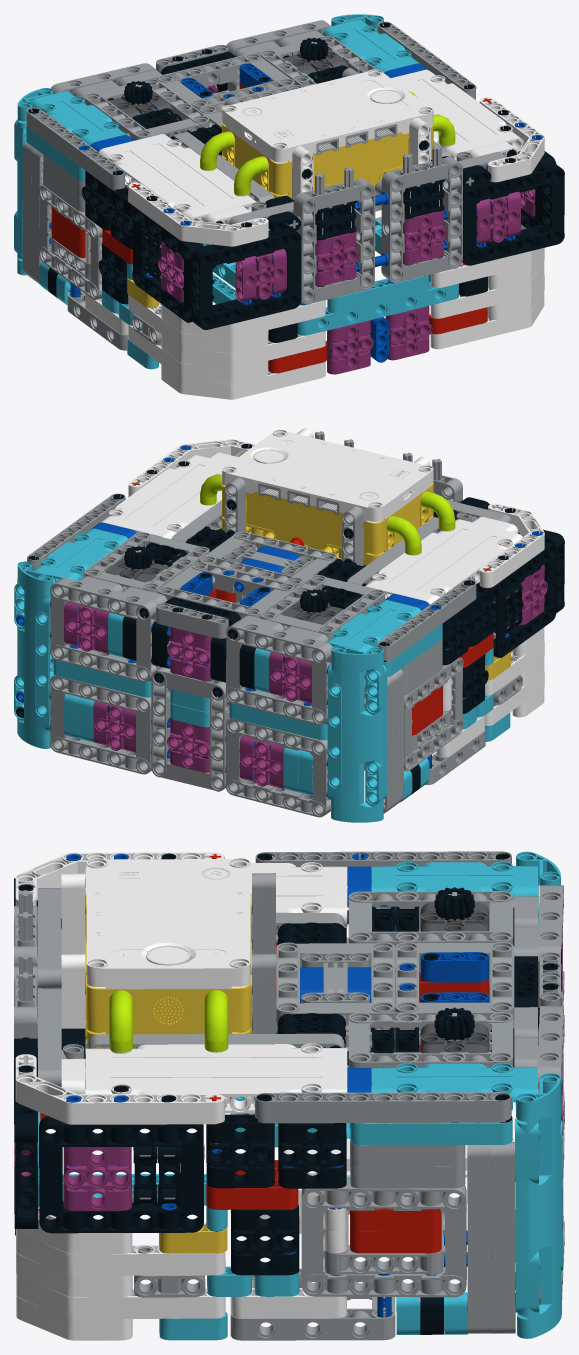
The model's file is mini.glb.
3 views of the same model, one above another, from view 1: azimuth 30°, elevation 25°; view 2: azimuth 150°, elevation 25°; view 3: azimuth 270°, elevation 25° (orthographic). The views are drawn at different scales.
Visible parts, largest first — view 1: Inner-Node-National2_dot_io-98.001, Inner-Node-National2_dot_io-698.001, Inner-Node-National2_dot_io-294.001, Inner-Node-National2_dot_io-313.001, Inner-Node-National2_dot_io-303.001, Inner-Node-National2_dot_io-318.001, Inner-Node-National2_dot_io-586.001, Inner-Node-National2_dot_io-359.001, Inner-Node-National2_dot_io-30.001, Inner-Node-National2_dot_io-333.001, Inner-Node-National2_dot_io-530.001, Inner-Node-National2_dot_io-341.001 (+70 smaller); view 2: Inner-Node-National2_dot_io-98.001, Inner-Node-National2_dot_io-493.001, Inner-Node-National2_dot_io-698.001, Inner-Node-National2_dot_io-430.001, Inner-Node-National2_dot_io-452.001, Inner-Node-National2_dot_io-536.001, Inner-Node-National2_dot_io-586.001, Inner-Node-National2_dot_io-109.001, Inner-Node-National2_dot_io-136.001, Inner-Node-National2_dot_io-111.001, Inner-Node-National2_dot_io-530.001, Inner-Node-National2_dot_io-341.001 (+64 smaller); view 3: Inner-Node-National2_dot_io-98.001, Inner-Node-National2_dot_io-586.001, Inner-Node-National2_dot_io-430.001, Inner-Node-National2_dot_io-293.001, Inner-Node-National2_dot_io-238.001, Inner-Node-National2_dot_io-449.001, Inner-Node-National2_dot_io-400.001, Inner-Node-National2_dot_io-515.001, Inner-Node-National2_dot_io-514.001, Inner-Node-National2_dot_io-726.001, Inner-Node-National2_dot_io-65.001, Inner-Node-National2_dot_io-648.001 (+74 smaller).
Part boxes in pixels (x1=…): Inner-Node-National2_dot_io-98.001: x1=222, y1=69, x2=433, y2=198; Inner-Node-National2_dot_io-698.001: x1=99, y1=134, x2=256, y2=221; Inner-Node-National2_dot_io-294.001: x1=381, y1=156, x2=462, y2=283; Inner-Node-National2_dot_io-313.001: x1=191, y1=230, x2=301, y2=329; Inner-Node-National2_dot_io-303.001: x1=293, y1=178, x2=375, y2=304; Inner-Node-National2_dot_io-318.001: x1=462, y1=162, x2=564, y2=265; Inner-Node-National2_dot_io-586.001: x1=391, y1=69, x2=524, y2=160; Inner-Node-National2_dot_io-359.001: x1=128, y1=183, x2=268, y2=246; Inner-Node-National2_dot_io-30.001: x1=202, y1=218, x2=458, y2=335; Inner-Node-National2_dot_io-333.001: x1=39, y1=185, x2=102, y2=299; Inner-Node-National2_dot_io-530.001: x1=157, y1=53, x2=294, y2=110; Inner-Node-National2_dot_io-341.001: x1=132, y1=208, x2=203, y2=322; Inner-Node-National2_dot_io-98.001: x1=222, y1=429, x2=433, y2=565; Inner-Node-National2_dot_io-493.001: x1=327, y1=646, x2=387, y2=822; Inner-Node-National2_dot_io-698.001: x1=364, y1=519, x2=522, y2=604; Inner-Node-National2_dot_io-430.001: x1=14, y1=561, x2=54, y2=748; Inner-Node-National2_dot_io-452.001: x1=50, y1=578, x2=158, y2=682; Inner-Node-National2_dot_io-536.001: x1=225, y1=620, x2=332, y2=725; Inner-Node-National2_dot_io-586.001: x1=100, y1=455, x2=229, y2=539; Inner-Node-National2_dot_io-109.001: x1=151, y1=667, x2=229, y2=791; Inner-Node-National2_dot_io-136.001: x1=50, y1=675, x2=151, y2=774; Inner-Node-National2_dot_io-111.001: x1=225, y1=718, x2=330, y2=817; Inner-Node-National2_dot_io-530.001: x1=157, y1=562, x2=294, y2=618; Inner-Node-National2_dot_io-341.001: x1=493, y1=542, x2=556, y2=657; Inner-Node-National2_dot_io-98.001: x1=85, y1=858, x2=252, y2=1048; Inner-Node-National2_dot_io-586.001: x1=85, y1=1043, x2=347, y2=1113; Inner-Node-National2_dot_io-430.001: x1=515, y1=1073, x2=562, y2=1338; Inner-Node-National2_dot_io-293.001: x1=39, y1=1116, x2=203, y2=1233; Inner-Node-National2_dot_io-238.001: x1=301, y1=1179, x2=466, y2=1297; Inner-Node-National2_dot_io-449.001: x1=255, y1=1092, x2=511, y2=1123; Inner-Node-National2_dot_io-400.001: x1=15, y1=1054, x2=224, y2=1124; Inner-Node-National2_dot_io-515.001: x1=348, y1=1012, x2=513, y2=1070; Inner-Node-National2_dot_io-514.001: x1=348, y1=891, x2=513, y2=962; Inner-Node-National2_dot_io-726.001: x1=276, y1=942, x2=394, y2=1032; Inner-Node-National2_dot_io-65.001: x1=16, y1=1231, x2=225, y2=1275; Inner-Node-National2_dot_io-648.001: x1=371, y1=861, x2=537, y2=907.
Bounding box in the file's own units: 20.08 × 11.26 × 18.5.
